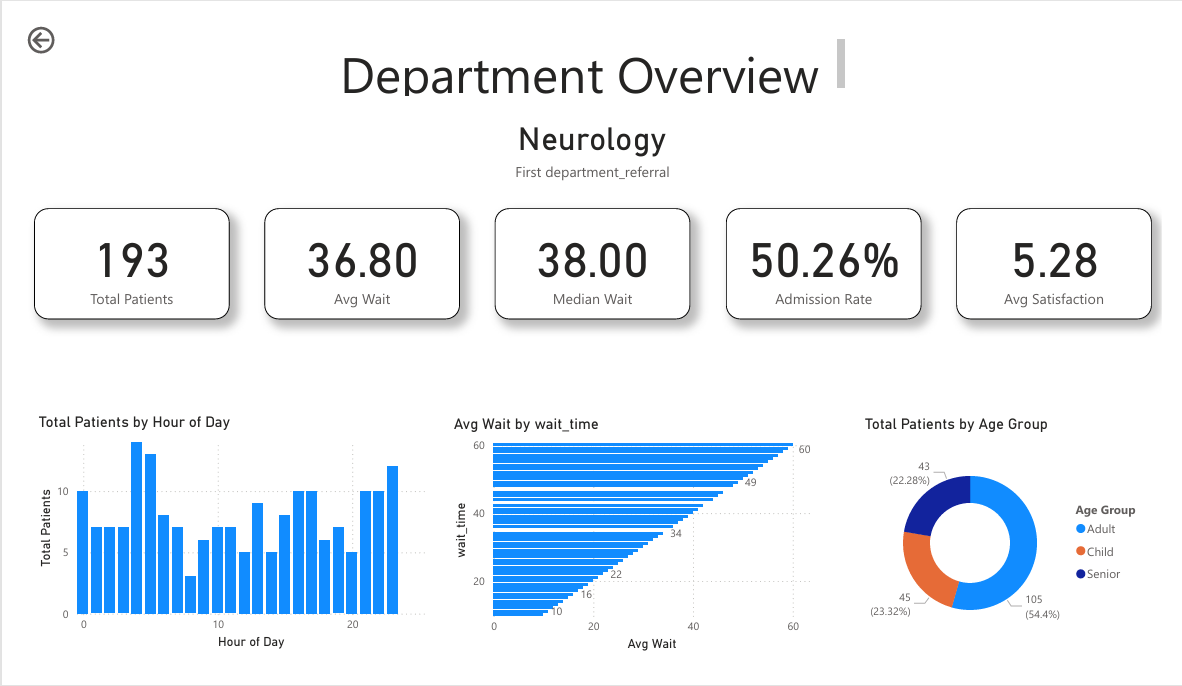

The dashboard page shown, as its layout file describes it:
{"tool":"powerbi","page":{"name":"Department Details","canvas":[1280,720],"ordinal":2},"visuals":[{"type":"actionButton","box":[0,0,100,40],"z":0},{"type":"textbox","box":[351.4,14.3,577.1,72.8],"z":1000},{"type":"card","fields":{"Values":["Min(Hospital ER.department_referral)"]},"box":[497.2,87.2,285.6,103.2],"z":2000},{"type":"card","fields":{"Values":["Hospital ER.Total Patients"]},"box":[11.5,209.4,220,125],"z":3000},{"type":"card","fields":{"Values":["Hospital ER.Avg Wait"]},"box":[270.9,209.4,220,125],"z":4000},{"type":"card","fields":{"Values":["Hospital ER.Median Wait"]},"box":[530.4,209.4,220,125],"z":5000},{"type":"card","fields":{"Values":["Hospital ER.Admission Rate"]},"box":[789.8,209.4,220,125],"z":6000},{"type":"card","fields":{"Values":["Hospital ER.Avg Satisfaction"]},"box":[1049.3,209.4,220,125],"z":7000},{"type":"clusteredColumnChart","fields":{"Category":["Hospital ER.Hour of Day"],"Y":["Hospital ER.Total Patients"]},"box":[11.5,439.5,446.4,270],"z":8000},{"type":"donutChart","fields":{"Category":["Hospital ER.Age Group"],"Y":["Hospital ER.Total Patients"]},"box":[941.1,440.6,333.6,270.4],"z":9000},{"type":"barChart","fields":{"Category":["Hospital ER.wait_time"],"Y":["Hospital ER.Avg Wait"]},"box":[478.6,440.6,418.8,270.4],"z":10000}]}

Visuals, with their boxes on the page's 1280x720 design canvas (x1, y1, x2, y2). These are canvas units, not pixel positions in the 1182x686 screenshot, which may show the page scaled, cropped or inside an application window:
actionButton: (0,0,100,40)
textbox: (351,14,928,87)
card - Min(Hospital ER.department_referral): (497,87,783,190)
card - Hospital ER.Total Patients: (12,209,232,334)
card - Hospital ER.Avg Wait: (271,209,491,334)
card - Hospital ER.Median Wait: (530,209,750,334)
card - Hospital ER.Admission Rate: (790,209,1010,334)
card - Hospital ER.Avg Satisfaction: (1049,209,1269,334)
clusteredColumnChart - Hospital ER.Hour of Day x Hospital ER.Total Patients: (12,440,458,710)
donutChart - Hospital ER.Age Group x Hospital ER.Total Patients: (941,441,1275,711)
barChart - Hospital ER.wait_time x Hospital ER.Avg Wait: (479,441,897,711)
